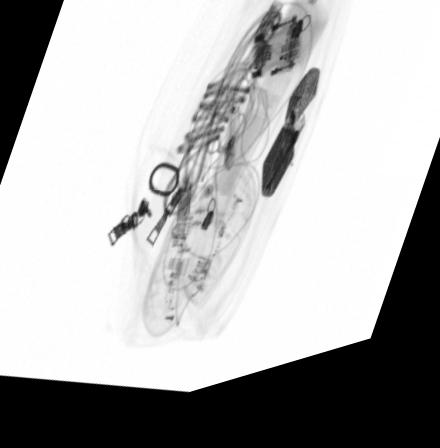Lighter: (259, 85, 319, 214)
